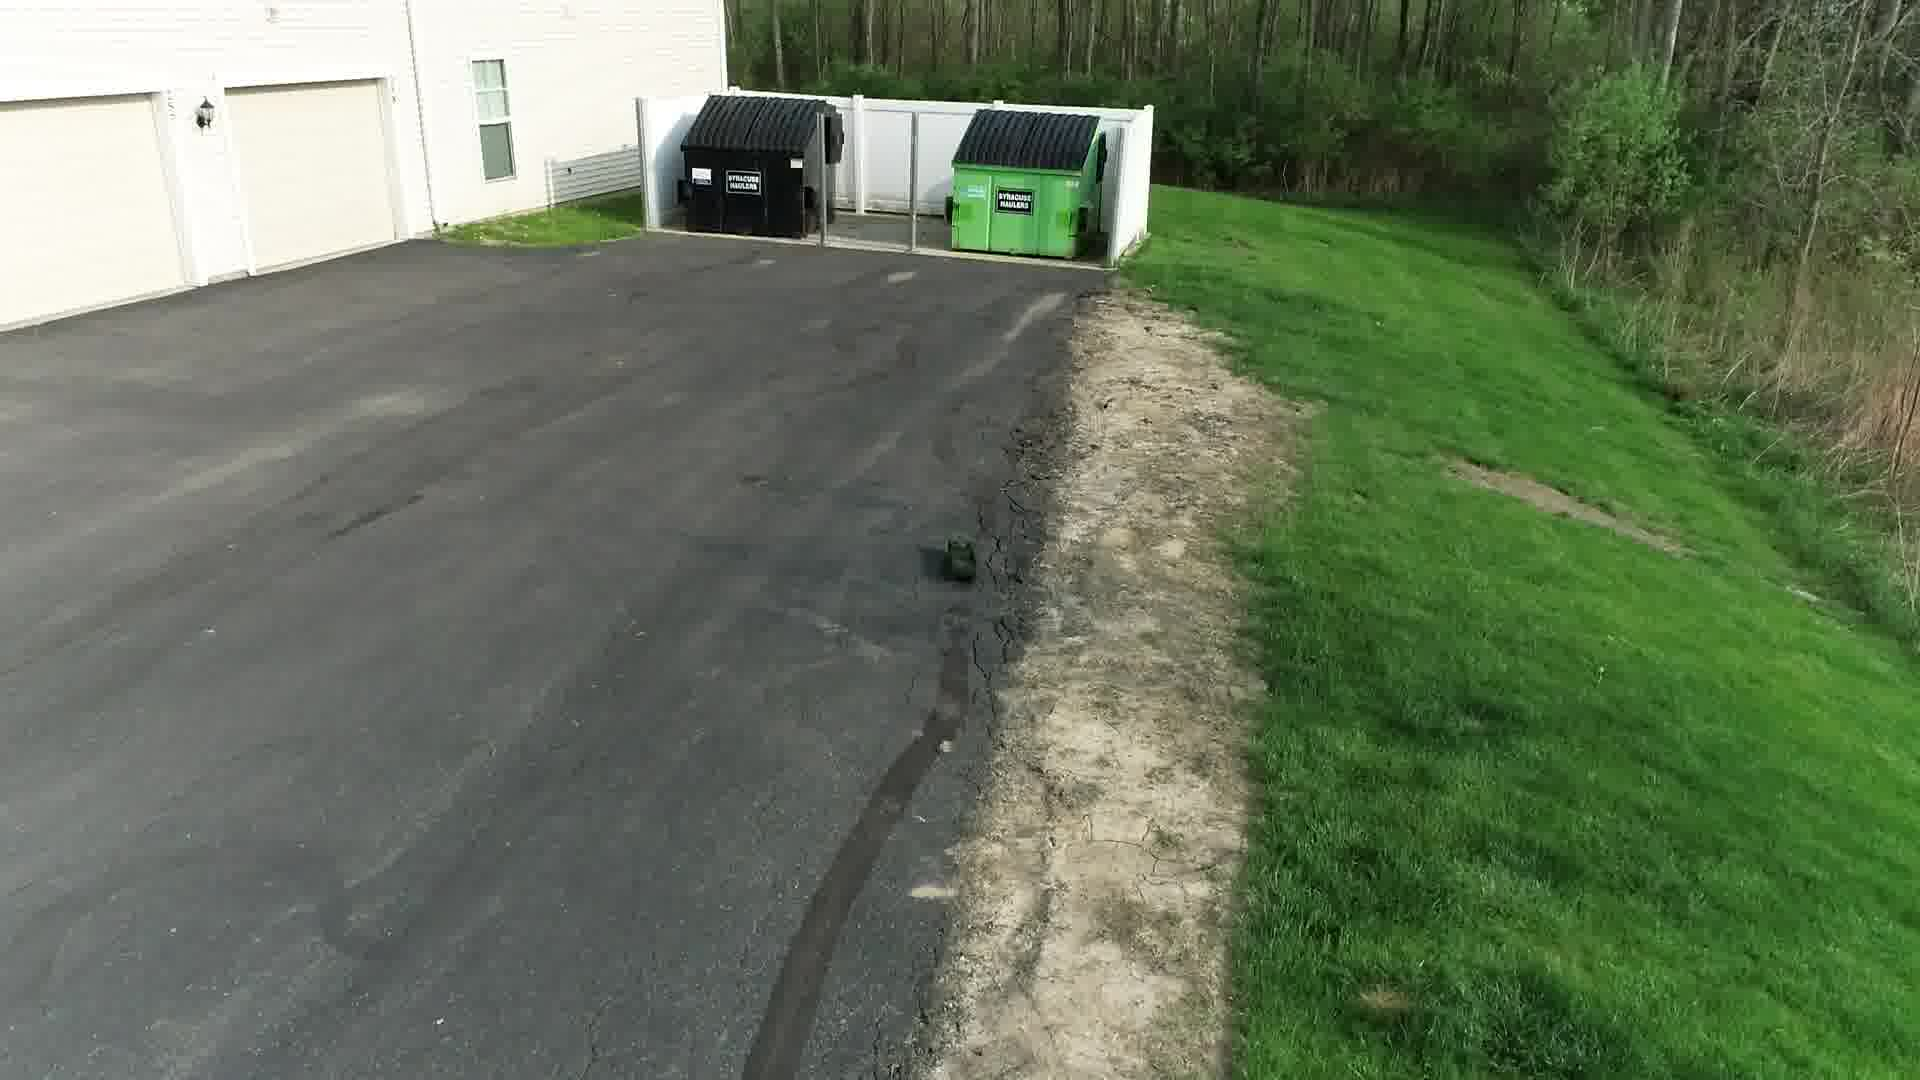transporter9: (944, 535, 982, 587)
